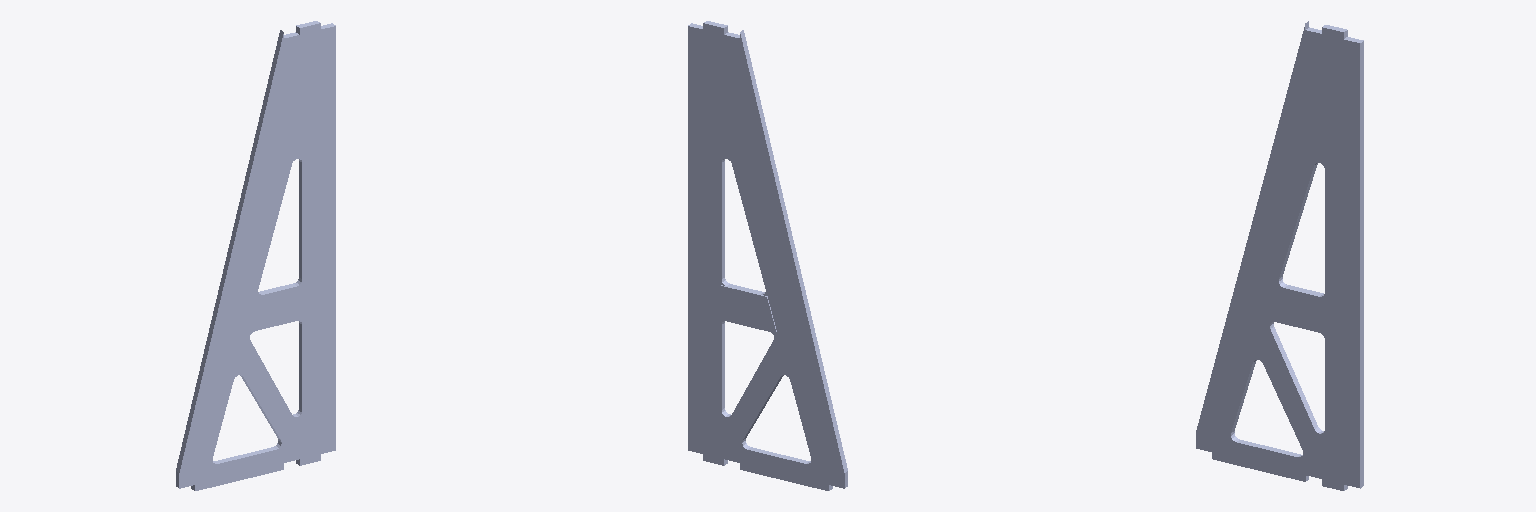
The robot description file, URDF, robot "Bridge":
<robot
  name="Bridge">
  <link
    name="bridge">
    <inertial>
      <origin
        xyz="0.0636736810906936 0.143842323651452 0.00299999999999712"
        rpy="0 0 0" />
      <mass
        value="0.20244" />
      <inertia
        ixx="0.00152014852697095"
        ixy="1.76846639004149E-05"
        ixz="-3.1539863417057E-18"
        iyy="0.000286140203372851"
        iyz="-2.34660601836366E-17"
        izz="0.00180507409034381" />
    </inertial>
    <visual>
      <origin
        xyz="0 0 0"
        rpy="0 0 0" />
      <geometry>
        <mesh
          filename="package://Bridge/meshes/bridge.STL" />
      </geometry>
      <material
        name="">
        <color
          rgba="0.792156862745098 0.819607843137255 0.933333333333333 1" />
      </material>
    </visual>
    <collision>
      <origin
        xyz="0 0 0"
        rpy="0 0 0" />
      <geometry>
        <mesh
          filename="package://Bridge/meshes/bridge.STL" />
      </geometry>
    </collision>
  </link>
  <link
    name="Left_wall">
    <inertial>
      <origin
        xyz="0.0540874050204184 0.178160355074789 0.00302783690149616"
        rpy="0 0 0" />
      <mass
        value="0.192741498658911" />
      <inertia
        ixx="0.00247517327495455"
        ixy="-0.000307984645851293"
        ixz="1.41948006226161E-08"
        iyy="0.000287632943939697"
        iyz="-1.60207534296156E-07"
        izz="0.0027616214535378" />
    </inertial>
    <visual>
      <origin
        xyz="0 0 0"
        rpy="0 0 0" />
      <geometry>
        <mesh
          filename="package://Bridge/meshes/Left_wall.STL" />
      </geometry>
      <material
        name="">
        <color
          rgba="0.792156862745098 0.819607843137255 0.933333333333333 1" />
      </material>
    </visual>
    <collision>
      <origin
        xyz="0 0 0"
        rpy="0 0 0" />
      <geometry>
        <mesh
          filename="package://Bridge/meshes/Left_wall.STL" />
      </geometry>
    </collision>
  </link>
  <joint
    name="Left_wall_joint"
    type="fixed">
    <origin
      xyz="0.15 0.286000000000024 0"
      rpy="1.57079632679491 -1.62922021519875E-15 3.14159265358979" />
    <parent
      link="bridge" />
    <child
      link="Left_wall" />
    <axis
      xyz="0 0 0" />
  </joint>
  <link
    name="Right_wall">
    <inertial>
      <origin
        xyz="0.0540874050204184 0.178160355074789 0.00302783690149645"
        rpy="0 0 0" />
      <mass
        value="0.192741498658912" />
      <inertia
        ixx="0.00247517327495456"
        ixy="-0.000307984645851296"
        ixz="1.41948006226808E-08"
        iyy="0.000287632943939699"
        iyz="-1.6020753429316E-07"
        izz="0.00276162145353781" />
    </inertial>
    <visual>
      <origin
        xyz="0 0 0"
        rpy="0 0 0" />
      <geometry>
        <mesh
          filename="package://Bridge/meshes/Right_wall.STL" />
      </geometry>
      <material
        name="">
        <color
          rgba="0.792156862745098 0.819607843137255 0.933333333333333 1" />
      </material>
    </visual>
    <collision>
      <origin
        xyz="0 0 0"
        rpy="0 0 0" />
      <geometry>
        <mesh
          filename="package://Bridge/meshes/Right_wall.STL" />
      </geometry>
    </collision>
  </link>
  <joint
    name="Right_wall_joint"
    type="fixed">
    <origin
      xyz="0.15 0 0"
      rpy="1.57079632679491 -1.27003663634341E-15 -3.14159265358979" />
    <parent
      link="bridge" />
    <child
      link="Right_wall" />
    <axis
      xyz="0 0 0" />
  </joint>
  <link
    name="Top_wall">
    <inertial>
      <origin
        xyz="0.146 0.0250000000000003 0.003000000000001"
        rpy="0 0 0" />
      <mass
        value="0.0861599999999999" />
      <inertia
        ixx="1.846048E-05"
        ixy="1.09436656785256E-18"
        ixz="4.63938687723111E-18"
        iyy="0.0005932348"
        iyz="-1.8841390206596E-19"
        izz="0.00061117832" />
    </inertial>
    <visual>
      <origin
        xyz="0 0 0"
        rpy="0 0 0" />
      <geometry>
        <mesh
          filename="package://Bridge/meshes/Top_wall.STL" />
      </geometry>
      <material
        name="">
        <color
          rgba="0.792156862745098 0.819607843137255 0.933333333333333 1" />
      </material>
    </visual>
    <collision>
      <origin
        xyz="0 0 0"
        rpy="0 0 0" />
      <geometry>
        <mesh
          filename="package://Bridge/meshes/Top_wall.STL" />
      </geometry>
    </collision>
  </link>
  <joint
    name="Top_wall_joint"
    type="fixed">
    <origin
      xyz="0.100000000000004 0.291999999999986 0.394000000000001"
      rpy="0 0 -1.5707963267949" />
    <parent
      link="bridge" />
    <child
      link="Top_wall" />
    <axis
      xyz="0 0 0" />
  </joint>
  <link
    name="Box">
    <inertial>
      <origin
        xyz="0.0508000000000001 0.139700000000001 0.0888999999999978"
        rpy="0 0 0" />
      <mass
        value="5.047215712" />
      <inertia
        ixx="0.0461303739240139"
        ixy="-9.10729824887824E-18"
        ixz="1.55504347364085E-17"
        iyy="0.0176380841474171"
        iyz="-2.98372626157703E-16"
        izz="0.0371756542799406" />
    </inertial>
    <visual>
      <origin
        xyz="0 0 0"
        rpy="0 0 0" />
      <geometry>
        <mesh
          filename="package://Bridge/meshes/Box.STL" />
      </geometry>
      <material
        name="">
        <color
          rgba="0.792156862745098 0.819607843137255 0.933333333333333 1" />
      </material>
    </visual>
    <collision>
      <origin
        xyz="0 0 0"
        rpy="0 0 0" />
      <geometry>
        <mesh
          filename="package://Bridge/meshes/Box.STL" />
      </geometry>
    </collision>
  </link>
  <joint
    name="Box_joint"
    type="fixed">
    <origin
      xyz="0.0314250374432224 0.00600000000000064 0.0426820783873312"
      rpy="0 0 -2.77555756156289E-17" />
    <parent
      link="bridge" />
    <child
      link="Box" />
    <axis
      xyz="0 0 0" />
  </joint>
  <link
    name="Laser_support">
    <inertial>
      <origin
        xyz="0.0450000000000004 0.0265300391501749 -0.047447780251052"
        rpy="0 0 0" />
      <mass
        value="0.077668648558694" />
      <inertia
        ixx="0.000240204828475503"
        ixy="-1.21972744404628E-19"
        ixz="-1.51216556908574E-18"
        iyy="0.000248773184670883"
        iyz="1.39921616907987E-05"
        izz="0.000101877527595527" />
    </inertial>
    <visual>
      <origin
        xyz="0 0 0"
        rpy="0 0 0" />
      <geometry>
        <mesh
          filename="package://Bridge/meshes/Laser_support.STL" />
      </geometry>
      <material
        name="">
        <color
          rgba="0.792156862745098 0.819607843137255 0.933333333333333 1" />
      </material>
    </visual>
    <collision>
      <origin
        xyz="0 0 0"
        rpy="0 0 0" />
      <geometry>
        <mesh
          filename="package://Bridge/meshes/Laser_support.STL" />
      </geometry>
    </collision>
  </link>
  <joint
    name="Laser_support_joint"
    type="fixed">
    <origin
      xyz="0.0820581161712757 0.113821575351547 0.405000000000003"
      rpy="-3.14159265358978 0 1.52865875946308" />
    <parent
      link="bridge" />
    <child
      link="Laser_support" />
    <axis
      xyz="0 0 0" />
  </joint>
</robot>

--- Render facts (derived) ---
Views: 3 orthographic renders of the robot side by side, from view 1: azimuth 30°, elevation 25°; view 2: azimuth 150°, elevation 25°; view 3: azimuth 330°, elevation 25°.
Model Bridge with 6 links and 5 joints (5 fixed), rooted at bridge, posed all joints at 0.
Links seen in each view (by area): view 1: Left_wall; view 2: Left_wall; view 3: Left_wall.
Boxes of the visible links, box(x1,y1,x2,y2) form: Left_wall: box(176, 21, 335, 490); Left_wall: box(688, 21, 847, 490); Left_wall: box(1196, 21, 1363, 490).
Bounding box of the posed robot: 0.15 × 0.007 × 0.4 m (x, y, z).
1 mesh visuals loaded from 6 distinct referenced files (1 binary STL); not drawn: 5 (reference not matched to a file when rendering).